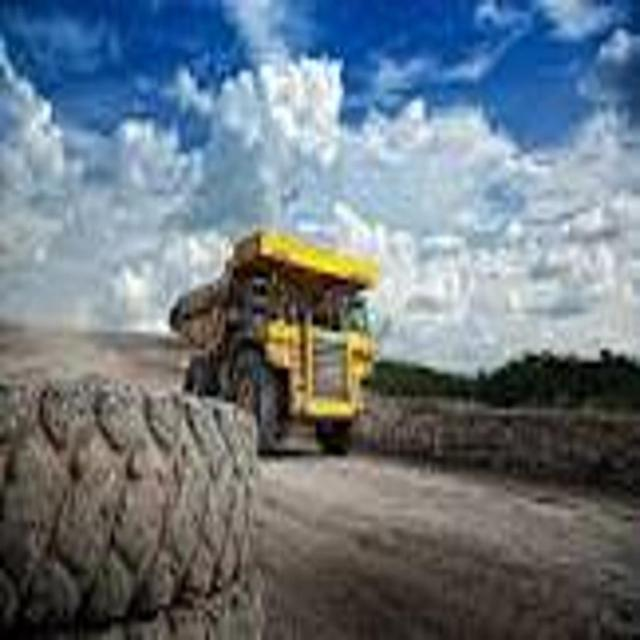dump_truck: (166, 224, 376, 468)
